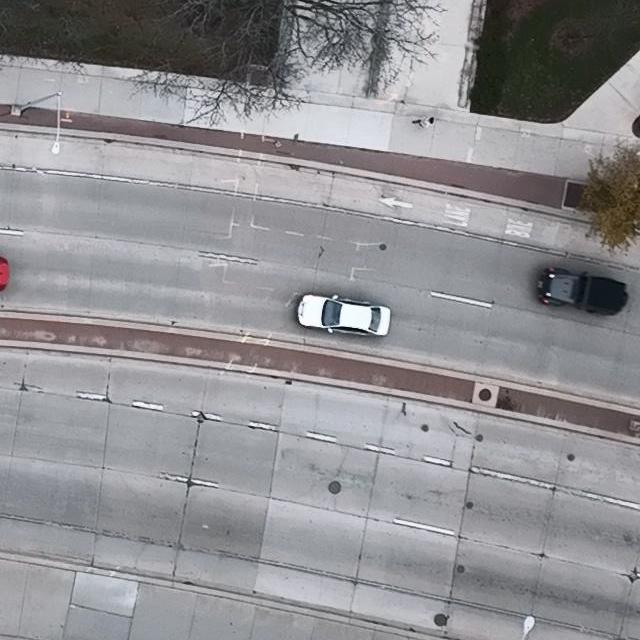car: (538, 269, 627, 315), (296, 293, 391, 336)
